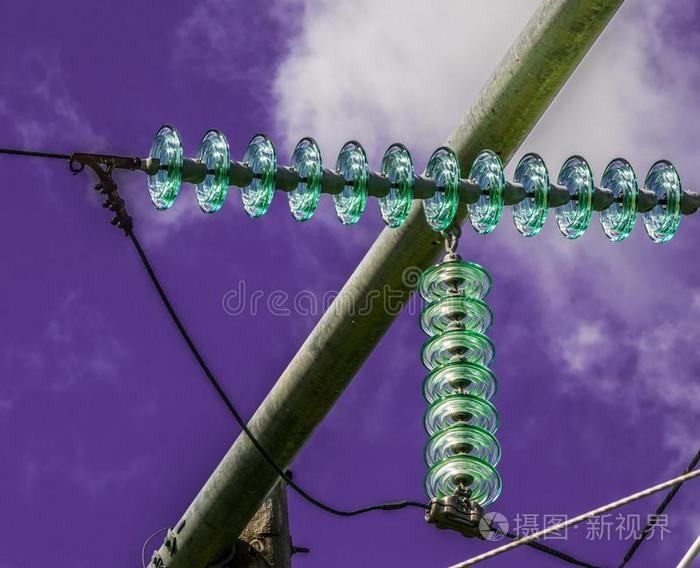insulator: (148, 122, 683, 245), (419, 257, 503, 508)
